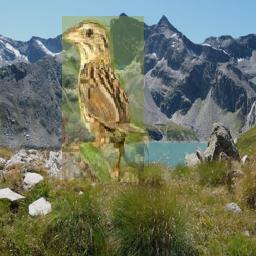Sparrow: (63, 16, 150, 182)
